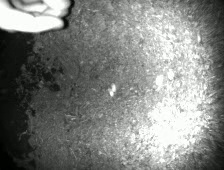corn: (153, 73, 165, 86), (109, 81, 118, 94), (106, 87, 115, 98)
